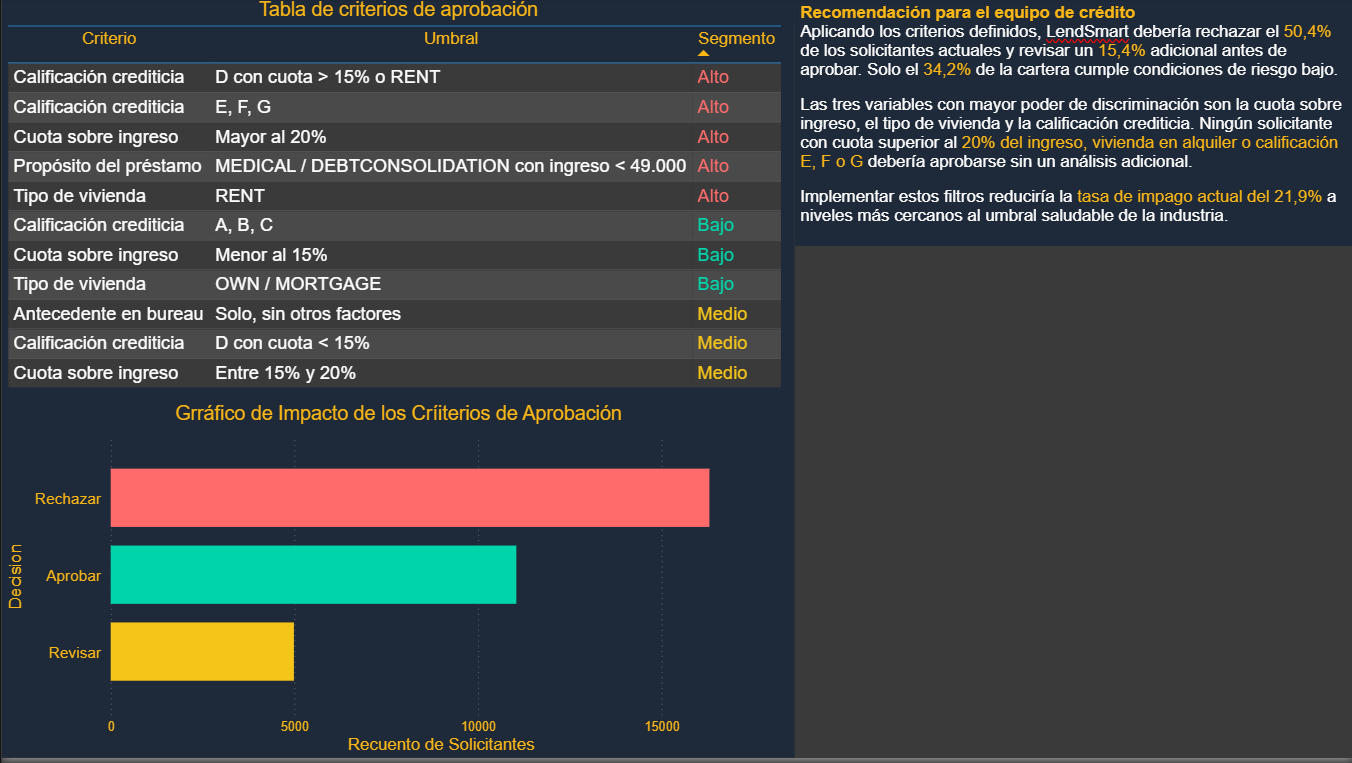

What the dashboard file says about the page in this screenshot:
{"tool":"powerbi","page":{"name":"Criterios de Decisión","canvas":[1280,720],"ordinal":2},"visuals":[{"type":"tableEx","title":"Tabla de criterios de aprobación","fields":{"Values":["Criterios de Aprobacion.Criterio","Criterios de Aprobacion.Umbral","Criterios de Aprobacion.Segmento"]},"box":[0,0,751.3,382.8],"z":0},{"type":"clusteredBarChart","title":"Gráfico de Impacto de los Criterios de Aprobación","fields":{"Category":["lendsmart stg2_loan_applications.Decision"],"Y":["CountNonNull(lendsmart stg2_loan_applications.id)"]},"box":[0,382.8,751.3,337.3],"z":1},{"type":"textbox","box":[751.3,0,528.7,235],"z":2}]}

Visuals, with their boxes in screenshot pixels (x1, y1, x2, y2), scaled from the page's 1280x720 canvas onto the 1352x763 screenshot:
"Tabla de criterios de aprobación" tableEx: (x1=0, y1=0, x2=794, y2=406)
"Gráfico de Impacto de los Criterios de Aprobación" clusteredBarChart: (x1=0, y1=406, x2=794, y2=762)
textbox: (x1=794, y1=0, x2=1351, y2=249)
